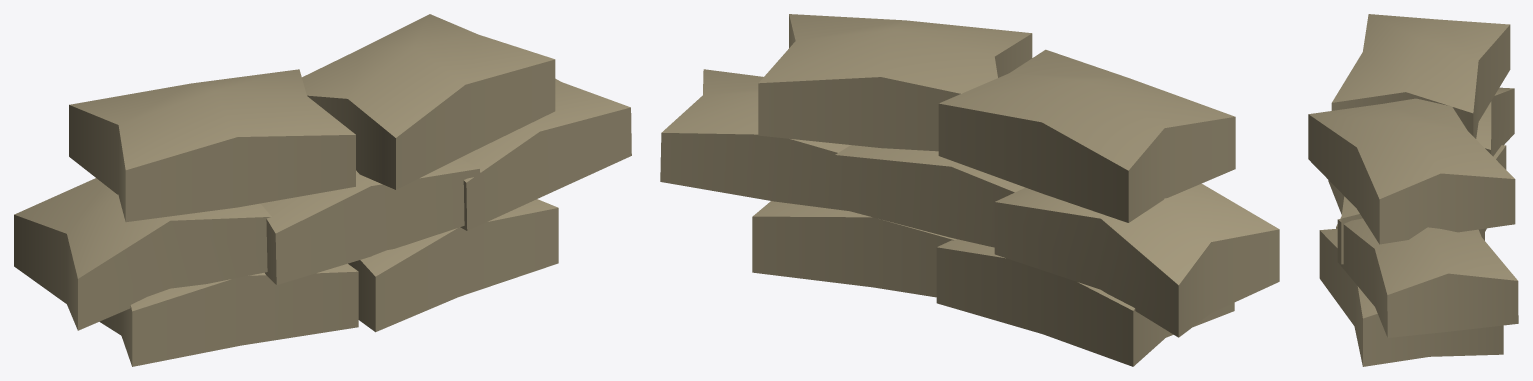
The model's file is SackTrench_Small.glb.
The picture shows the model from 3 angles, left to right: view 1: azimuth 30°, elevation 25°; view 2: azimuth 150°, elevation 25°; view 3: azimuth 270°, elevation 25°; orthographic projection. The views are drawn at different scales.
Parts seen in each view (by area): view 1: SackTrench_Small; view 2: SackTrench_Small; view 3: SackTrench_Small.
Boxes of the visible parts, box(x1,y1,x2,y2) form: SackTrench_Small: box(14, 14, 631, 366); SackTrench_Small: box(660, 14, 1279, 366); SackTrench_Small: box(1308, 14, 1518, 366).
Bounding box in the file's own units: 2.48 × 1 × 0.9208.
